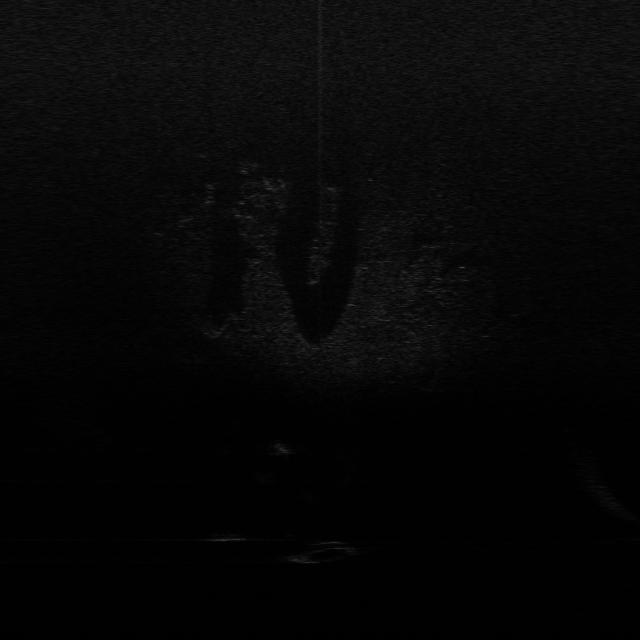cube: (206, 532, 250, 544)
square cage: (268, 438, 297, 458)
tyre: (287, 539, 359, 565)
